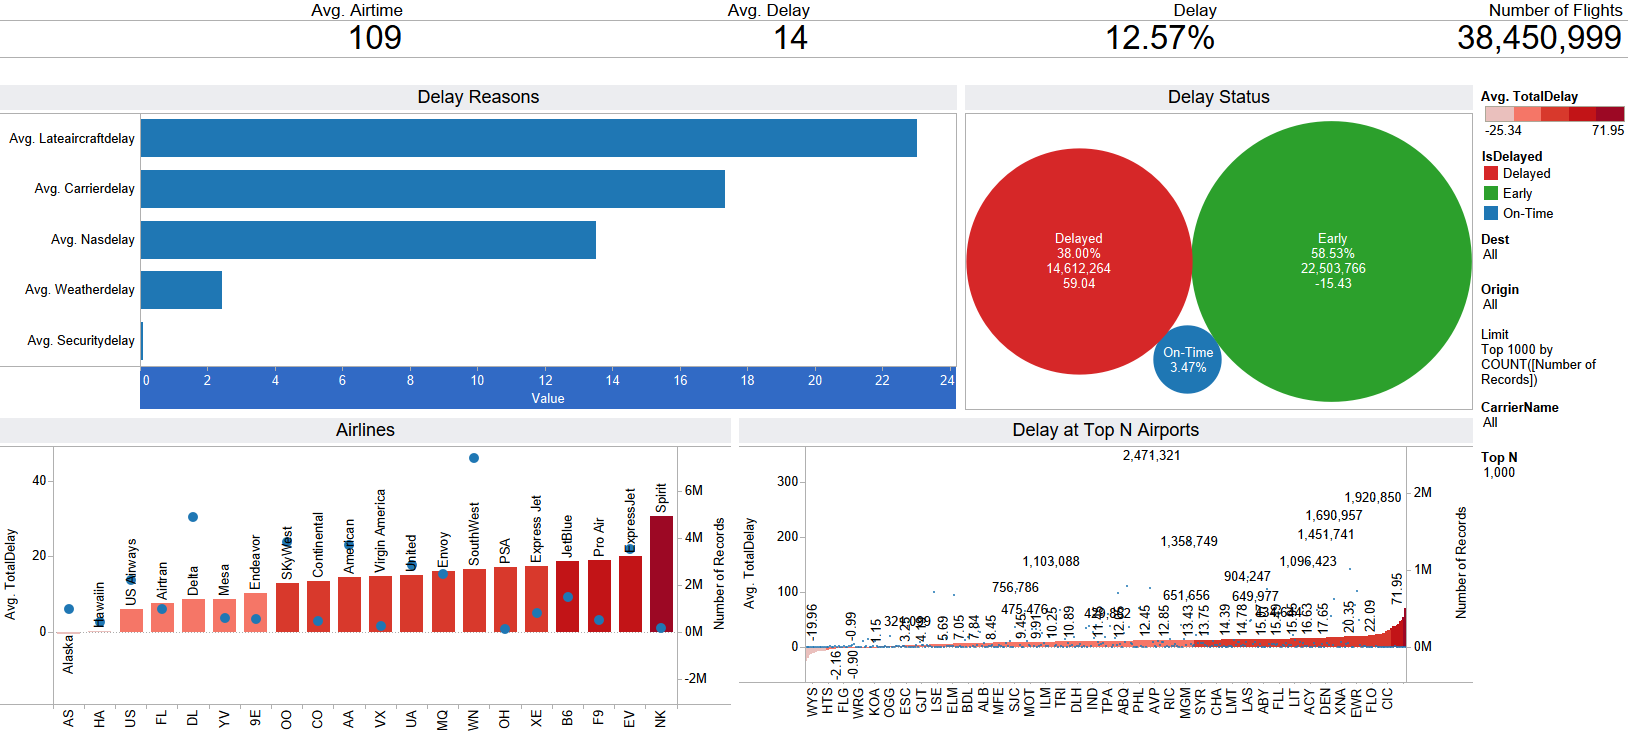

Layout of this report page (visuals, bound fields, positions):
{"tool":"tableau","page":{"name":"Delay","canvas":[1000,1000],"units":"permille","ordinal":0},"visuals":[{"type":"worksheet","title":"Overall Avg. Delay","mark":"Automatic","box":[0,0,1000,117.3]},{"type":"worksheet","title":"Delay Reasons","mark":"Automatic","box":[0,117.3,589.8,441.4]},{"type":"worksheet","title":"Delay Status","mark":"Circle","box":[589.8,117.3,314.1,441.4]},{"type":"legend","title":"Delay at Top N","param":"[hadoophive.16bg68x1j09wl61fjgzx10ac3inq].[avg:Calculation_854839535460003841:qk","box":[903.9,117.3,96.1,78.6]},{"type":"legend","title":"Delay Status","param":"[hadoophive.16bg68x1j09wl61fjgzx10ac3inq].[none:Calculation_854839535450046464:n","box":[903.9,195.9,96.1,108.2]},{"type":"filter","title":"Airlines","param":"[hadoophive.16bg68x1j09wl61fjgzx10ac3inq].[none:dest:nk]","box":[903.9,304.1,96.1,64.4]},{"type":"filter","title":"Delay Status","param":"[hadoophive.16bg68x1j09wl61fjgzx10ac3inq].[none:origin:nk]","box":[903.9,368.5,96.1,152.1]},{"type":"filter","title":"Airlines","param":"[hadoophive.16bg68x1j09wl61fjgzx10ac3inq].[none:Carrier (copy):nk]","box":[903.9,520.6,96.1,64.4]},{"type":"worksheet","title":"Airlines","mark":"Automatic","rows":["Calculation_854839535460003841","Number of Records"],"cols":["carrier"],"box":[0,558.6,451.9,441.4]},{"type":"worksheet","title":"Delay at Top N","mark":"Line","rows":["Calculation_854839535460003841","Number of Records"],"cols":["origin"],"box":[451.9,558.6,451.9,441.4]},{"type":"parameter","param":"[Parameters].[Parameter 2]","box":[903.9,585,96.1,63.1]}]}

Visuals, with their boxes on the dashboard's canvas, which has no fixed pixel size, in thousandths of its width and height (x1, y1, x2, y2). These are canvas units, not pixel positions in the 1629x740 screenshot, which may show the page scaled, cropped or inside an application window:
"Overall Avg. Delay" worksheet: <box>0,0,1000,117</box>
"Delay Reasons" worksheet: <box>0,117,590,559</box>
"Delay Status" worksheet (Circle marks): <box>590,117,904,559</box>
"Delay at Top N" legend: <box>904,117,1000,196</box>
"Delay Status" legend: <box>904,196,1000,304</box>
"Airlines" filter: <box>904,304,1000,368</box>
"Delay Status" filter: <box>904,368,1000,521</box>
"Airlines" filter: <box>904,521,1000,585</box>
"Airlines" worksheet: <box>0,559,452,1000</box>
"Delay at Top N" worksheet (Line marks): <box>452,559,904,1000</box>
parameter: <box>904,585,1000,648</box>
